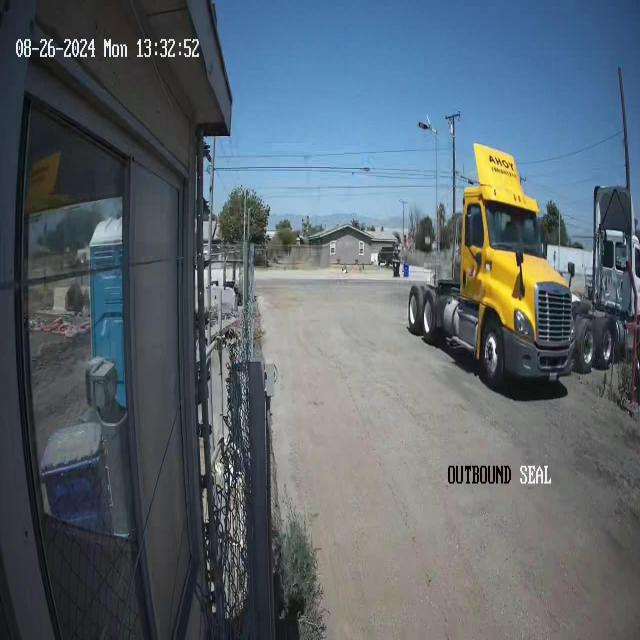BOBTAIL: (407, 141, 576, 390)
